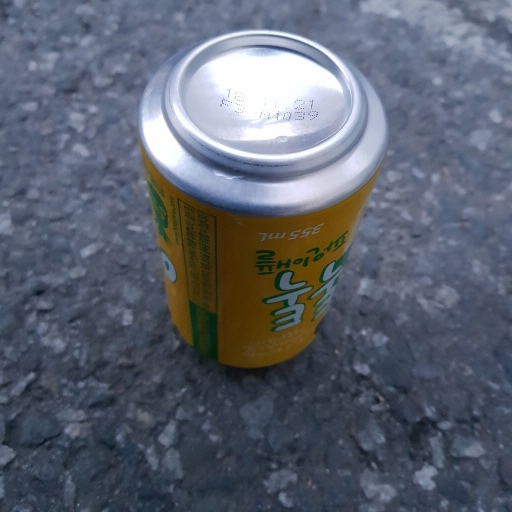Metal_0: (134, 24, 390, 370)
